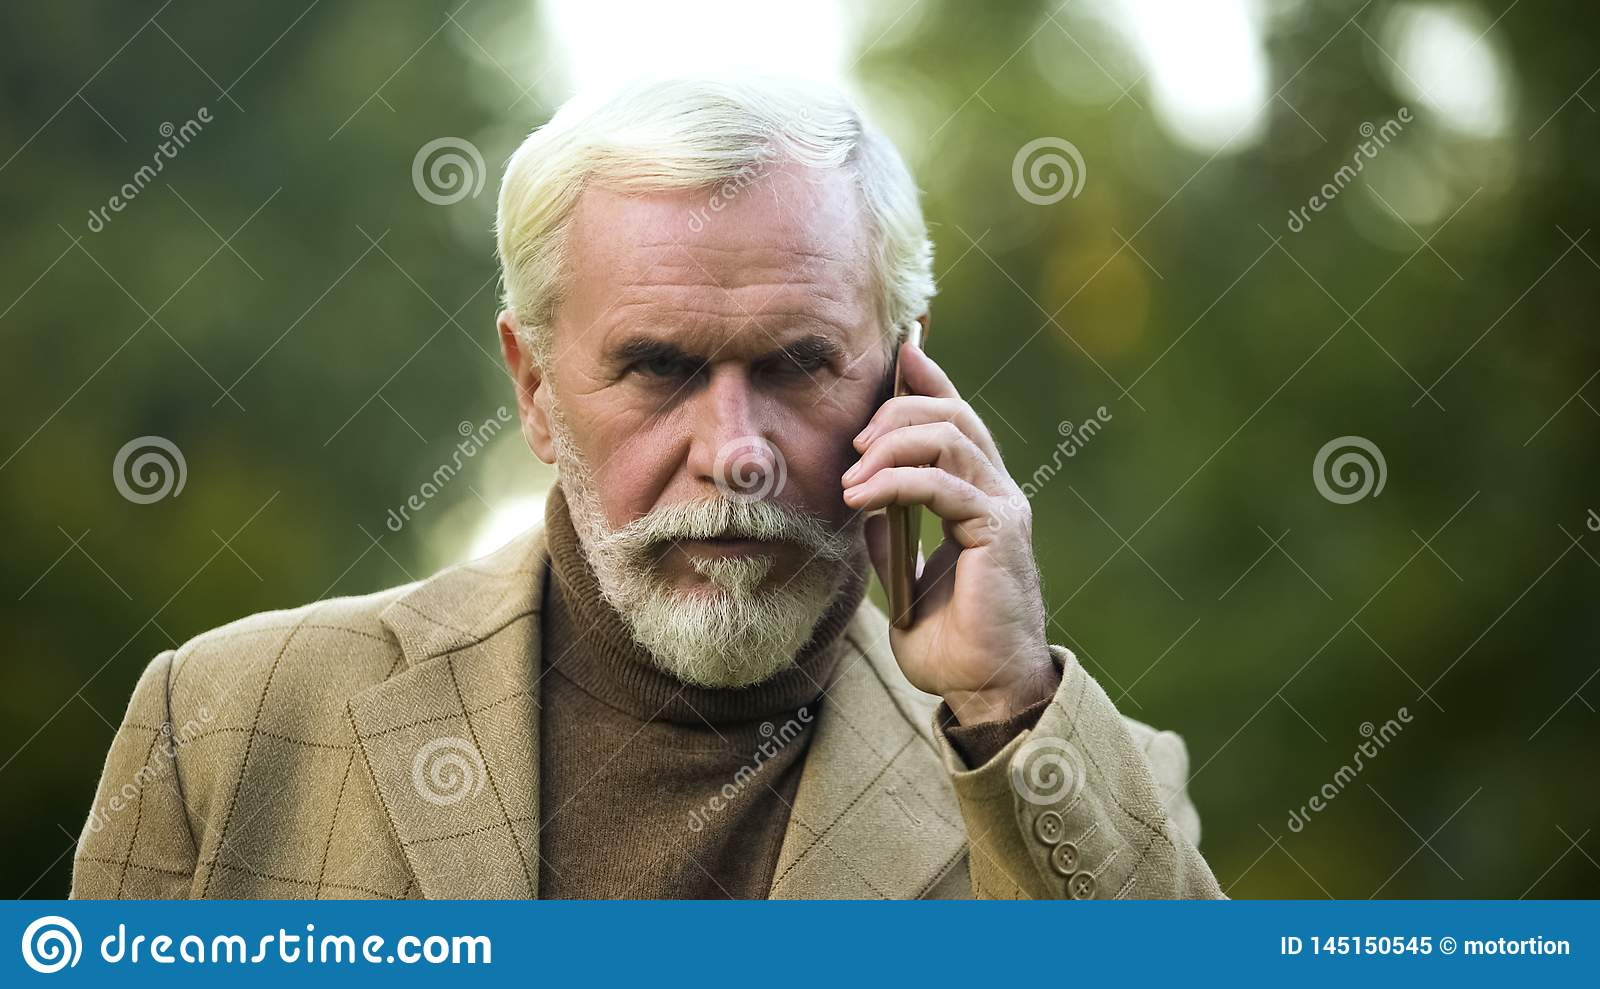phone: (885, 306, 929, 630)
talk: (568, 292, 1053, 717)
